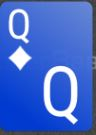Diamond: (8, 46, 33, 70)
